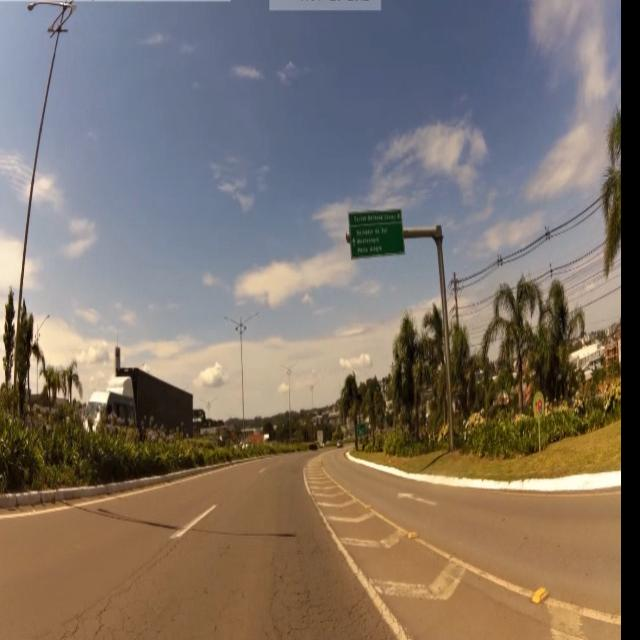I-4: (348, 210, 404, 255)
